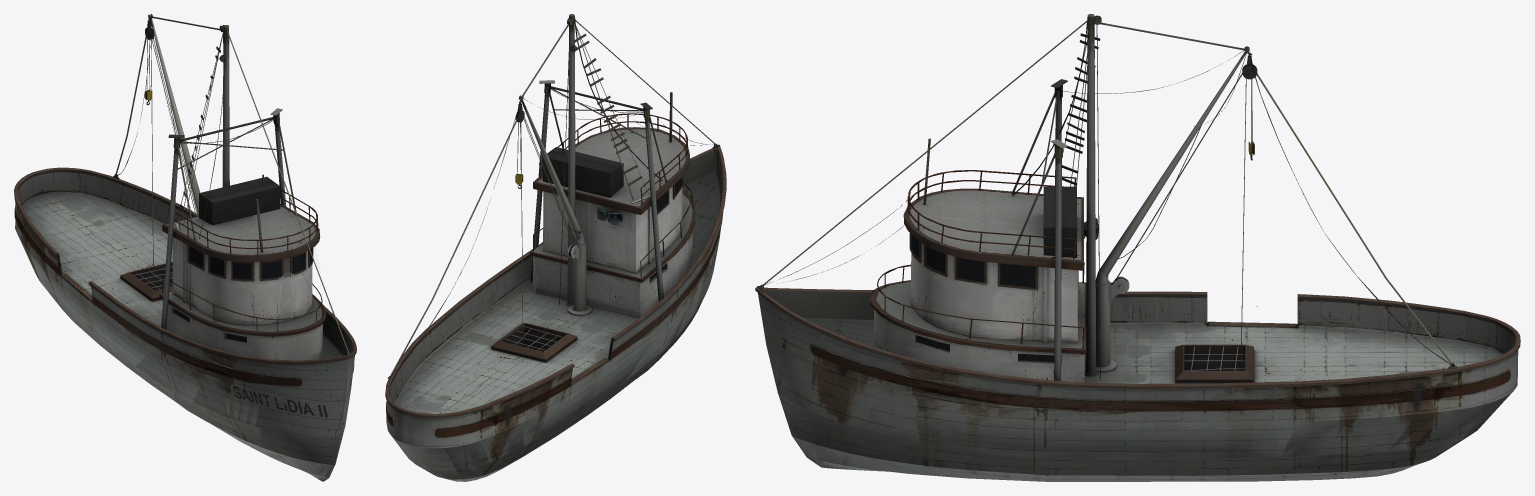
Rendered from fishing-boat-yoY5olQS.glb.
3 views of the same model, side by side, from view 1: azimuth 30°, elevation 25°; view 2: azimuth 150°, elevation 25°; view 3: azimuth 270°, elevation 25° (orthographic). The views are drawn at different scales.
Visible parts, largest first — view 1: node1; view 2: node1; view 3: node1.
Part boxes in pixels (x1,y1,x2,y2): node1: [14, 14, 356, 481]; node1: [385, 14, 726, 481]; node1: [755, 14, 1520, 481].
Bounding box in the file's own units: 0.7295 × 1.69 × 2.5.
2 materials, 2 textured.
